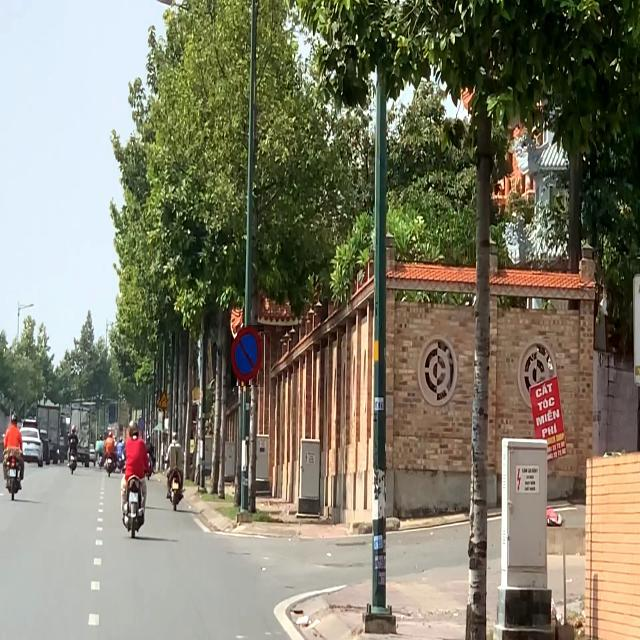P-131a: (231, 325, 264, 387)
W-201b: (157, 390, 171, 411)
